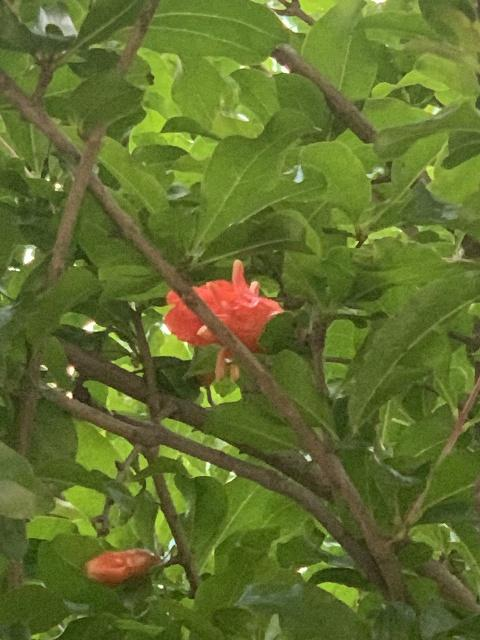bud: (85, 549, 159, 584)
flower: (162, 259, 285, 370)
